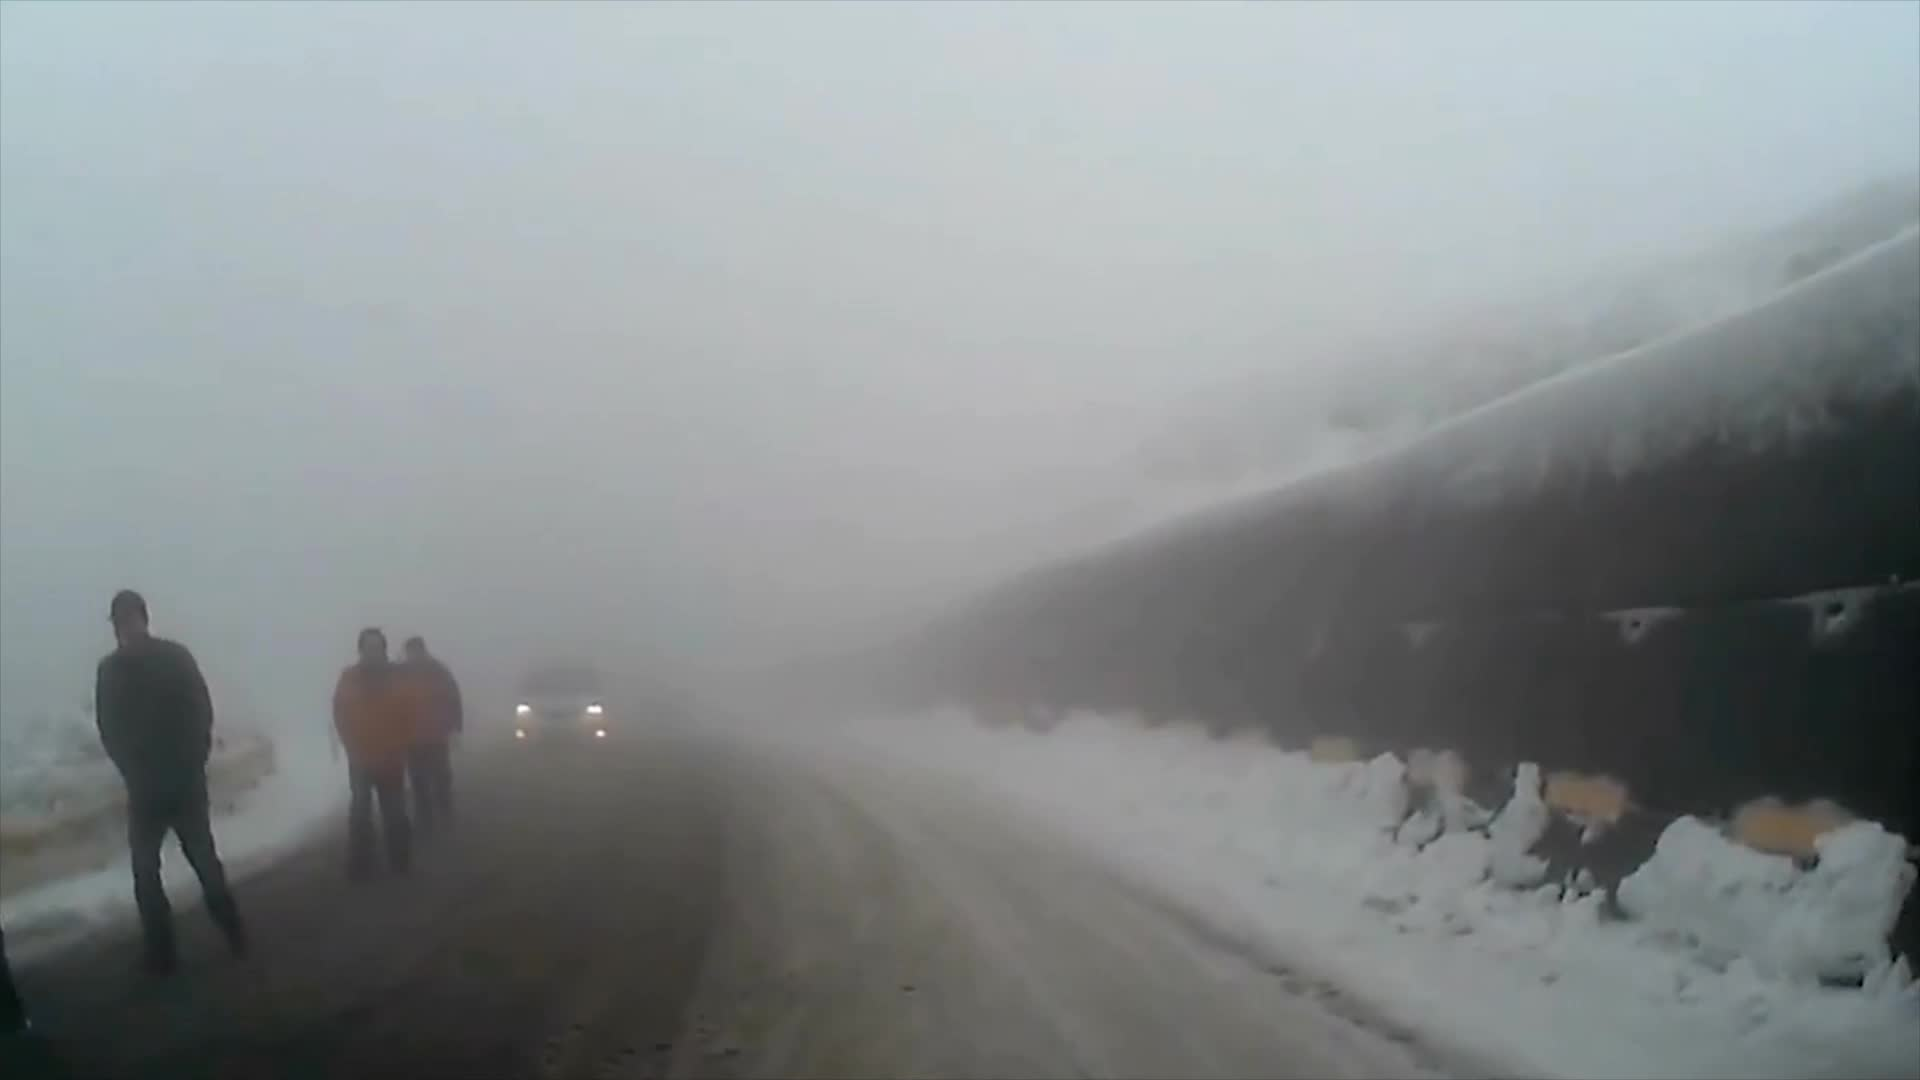pedestrian: (92, 592, 251, 977), (323, 621, 421, 879), (386, 627, 468, 859)
vehicle: (509, 677, 612, 771), (506, 664, 608, 758)
